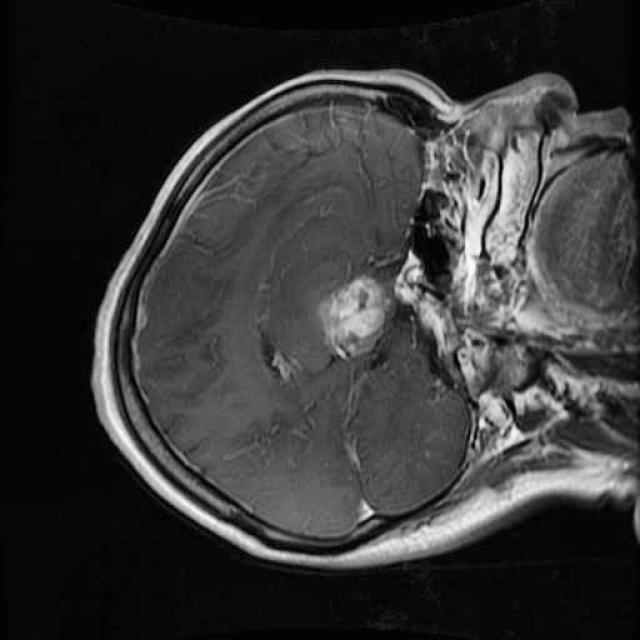Non-Tumor: (308, 260, 400, 375)
